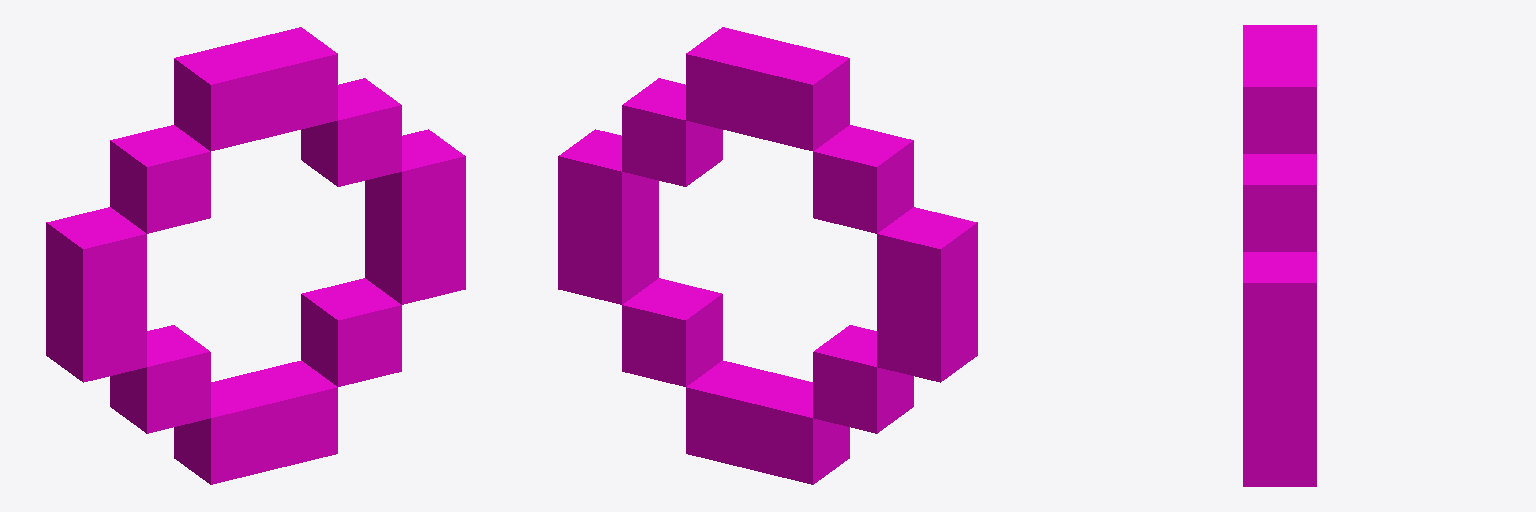
File: luzRoxa2.obj
3 views of the same model, side by side, from view 1: azimuth 30°, elevation 25°; view 2: azimuth 150°, elevation 25°; view 3: azimuth 270°, elevation 25° (orthographic).
Parts seen in each view (by area): view 1: ObjObject; view 2: ObjObject; view 3: ObjObject.
Part boxes in pixels (x1,y1,x2,y2): ObjObject: (46,27,465,484); ObjObject: (558,27,977,484); ObjObject: (1243,25,1316,486).
Bounding box in the file's own units: 0.6 × 0.6 × 0.1.